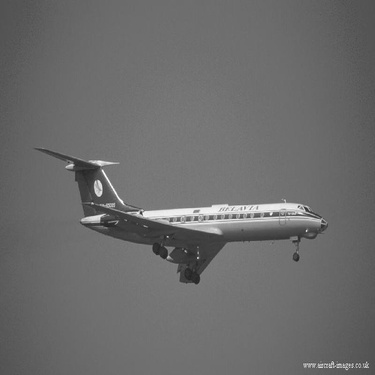airplane: (25, 131, 350, 290)
